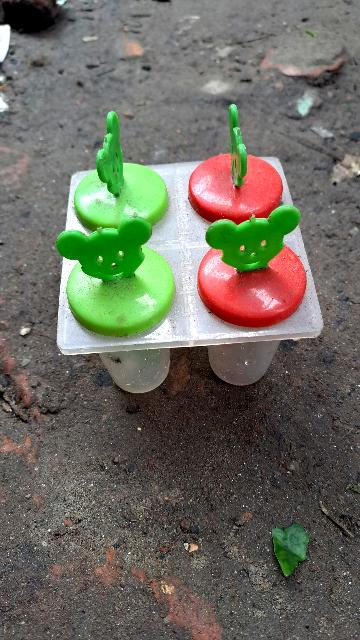hardplastic: (61, 156, 316, 401)
